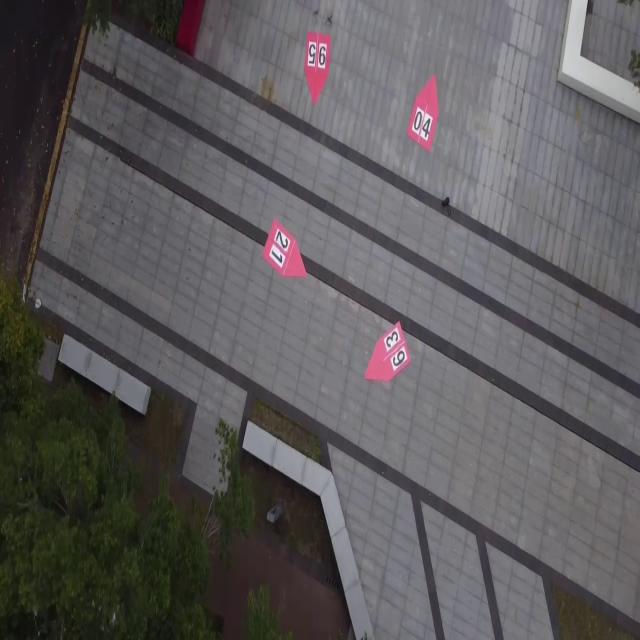-sign-: (365, 320, 412, 383), (262, 216, 308, 278), (407, 74, 440, 153), (305, 30, 331, 105)
